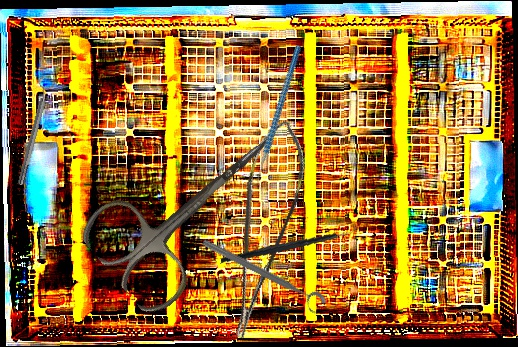Chopper: (212, 43, 347, 196), (220, 204, 358, 282)
Fixation Ring: (196, 235, 329, 317), (11, 76, 57, 187)
Iris Scissors: (73, 91, 314, 322)
Micro Scissor: (194, 114, 323, 342)
